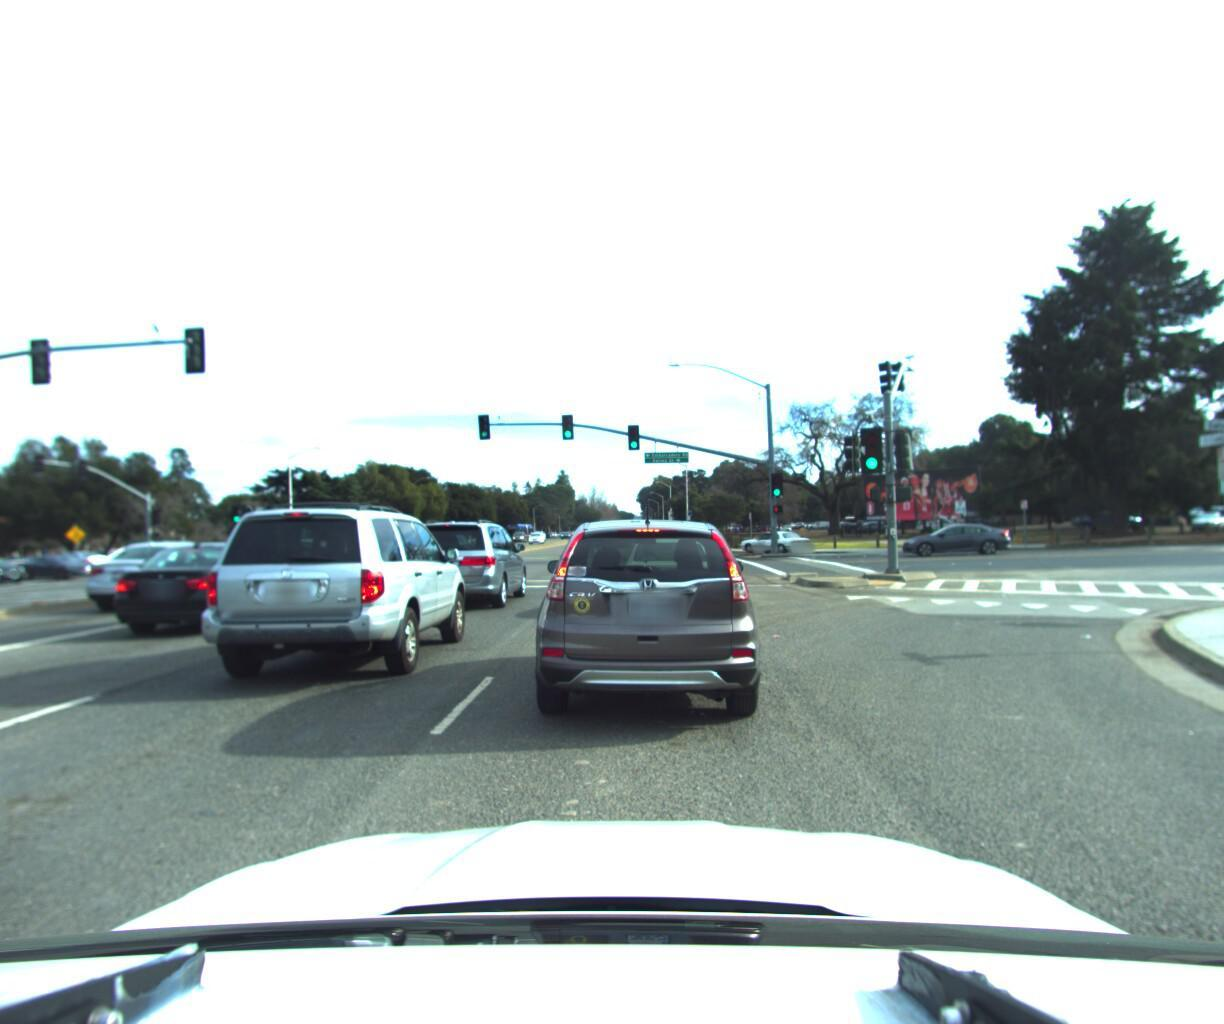car: (511, 499, 790, 751), (175, 494, 480, 704), (82, 526, 322, 643), (65, 539, 265, 624), (387, 511, 532, 613), (0, 543, 19, 867), (892, 516, 1011, 554), (12, 550, 113, 582), (735, 526, 812, 553), (49, 545, 125, 573), (0, 555, 37, 588)
